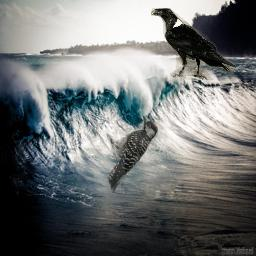Crow: (151, 8, 236, 80)
Woodpecker: (107, 111, 158, 193)
